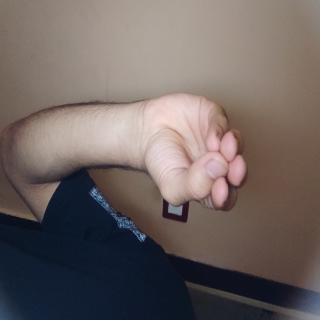HA: (63, 87, 162, 252)
